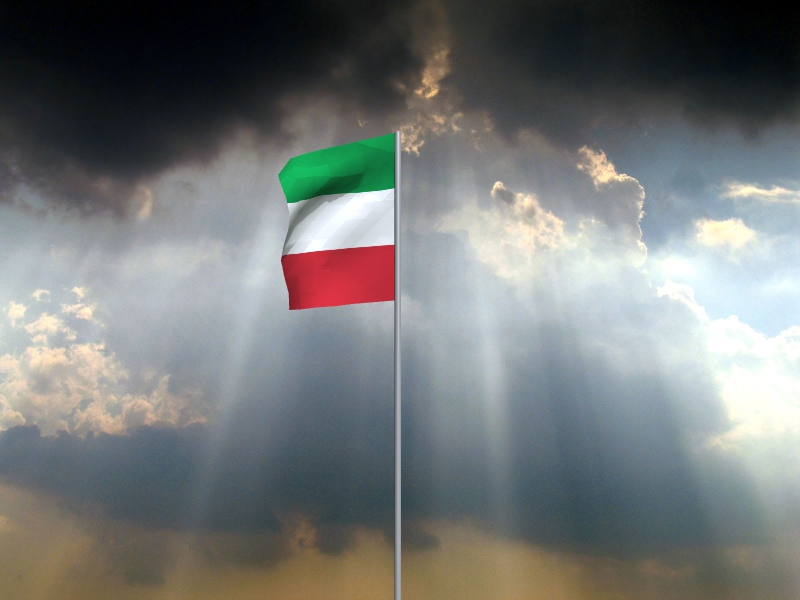it: (278, 134, 395, 311)
